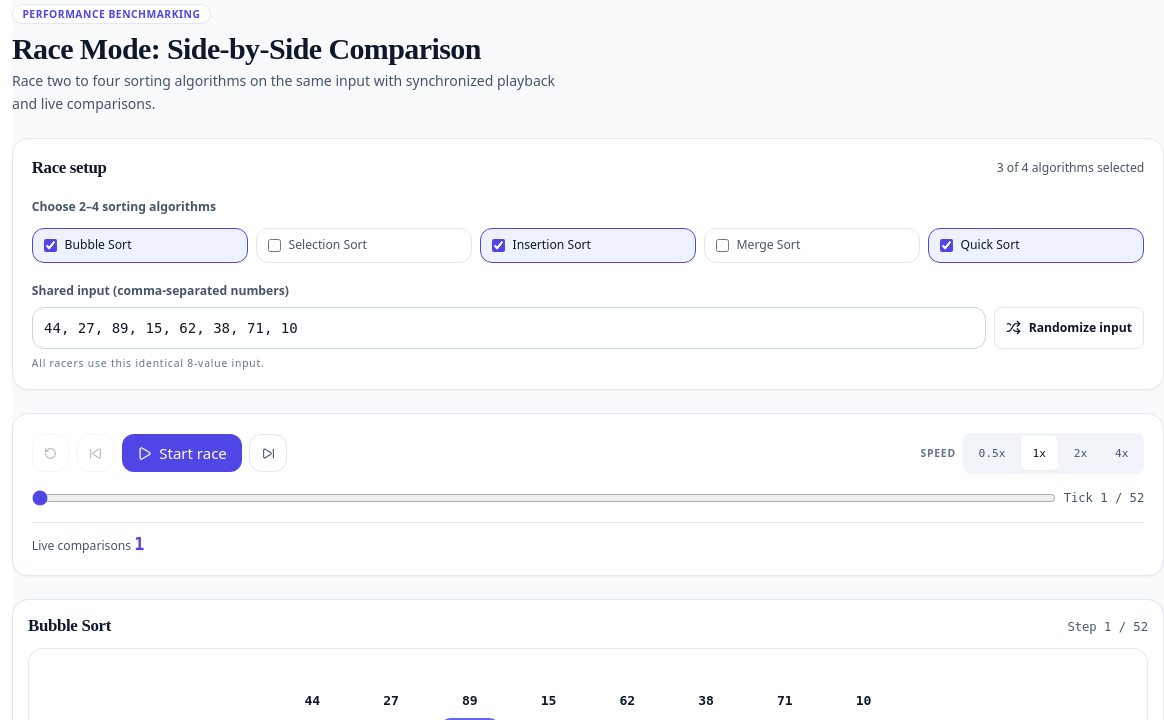
Test: RaceModePage › enforces two-to-four racers and blocks playback for invalid shared input
The width and height of the screenshot is (1164, 720).
Click the checkbox labelled "Insertion Sort".
click(498, 245)  # box [492, 239, 505, 252]
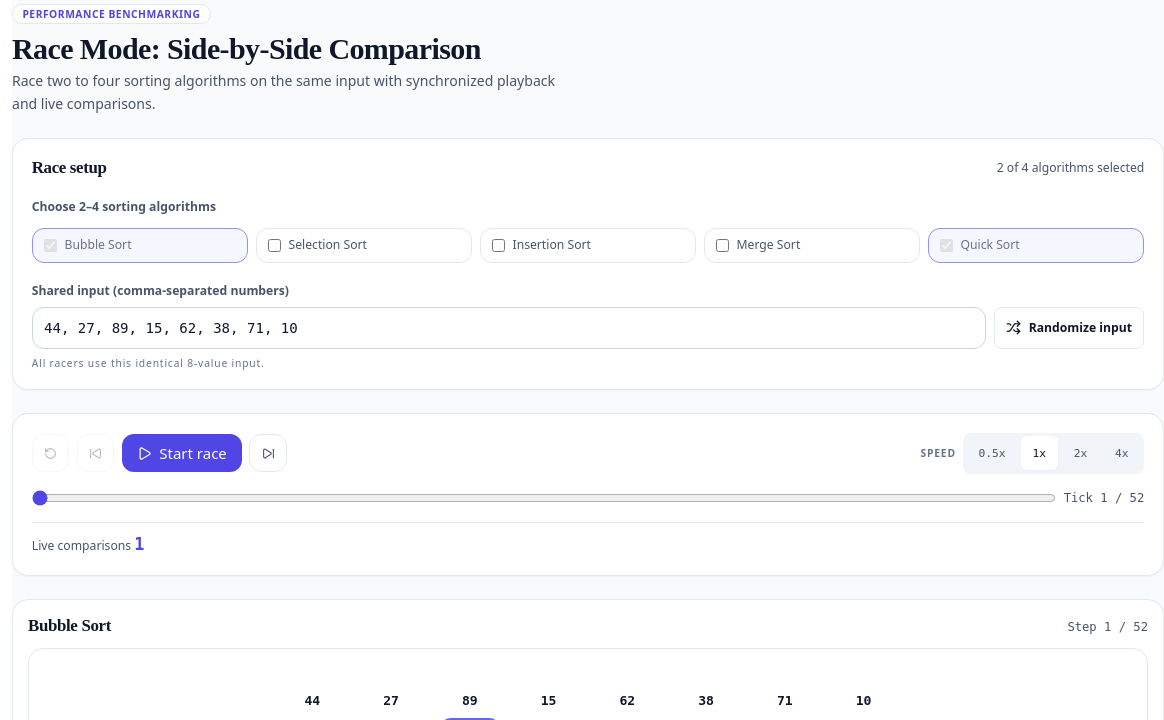
Expected: the checkbox labelled "Bubble Sort" is disabled, [44, 239, 57, 252]
Click the checkbox labelled "Merge Sort".
click(722, 245)  # box [716, 239, 729, 252]
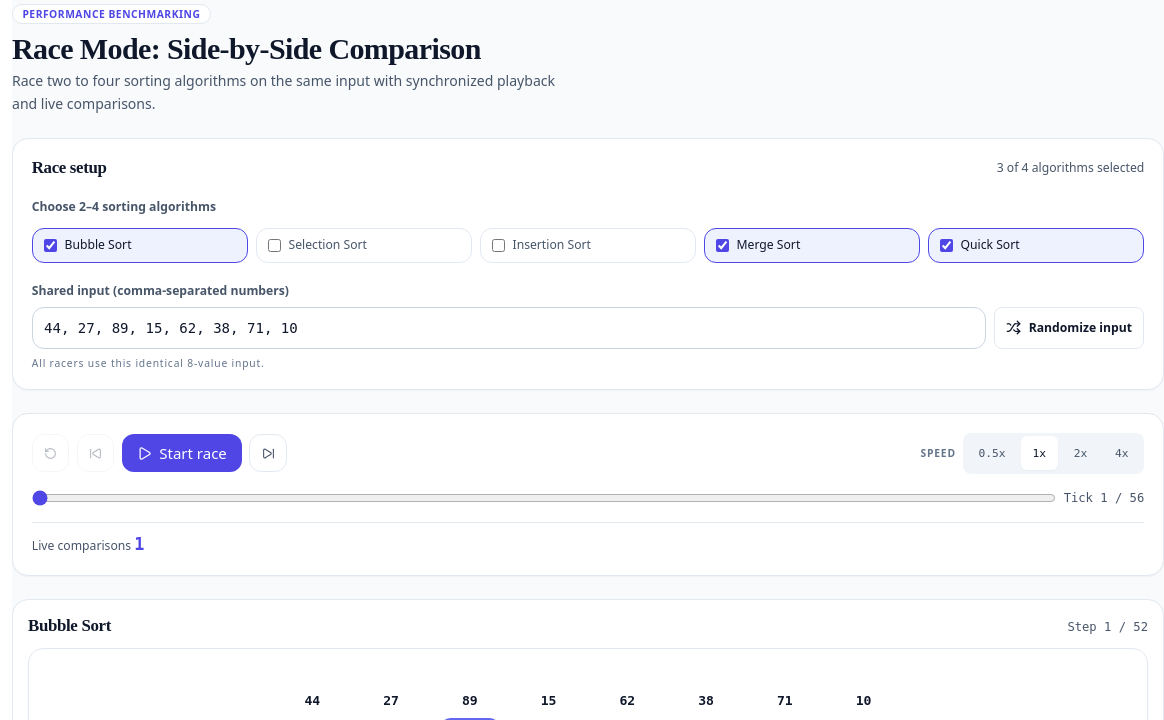
Click the checkbox labelled "Selection Sort".
click(274, 245)  # box [268, 239, 281, 252]
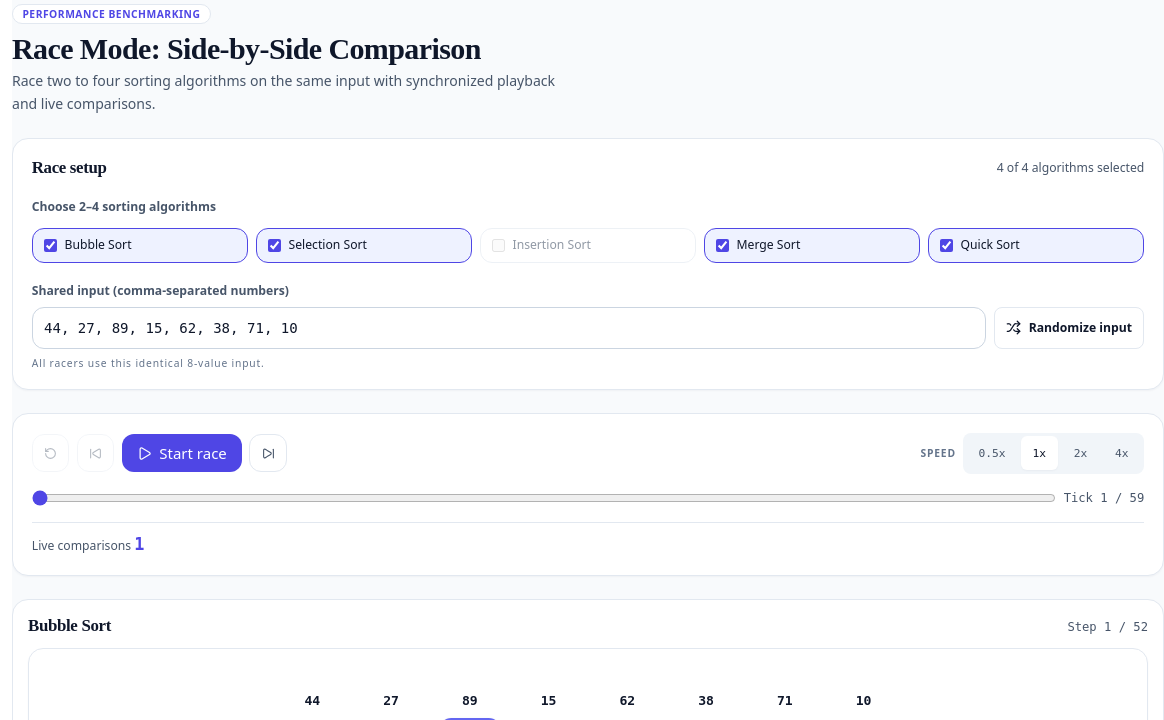
Expected: the text "4 of 4 algorithms selected" is shown, [997, 159, 1144, 177]
Expected: the checkbox labelled "Insertion Sort" is disabled, [492, 239, 505, 252]
Replace the text in the field labelled "Shared input (comma-separated numbers)" with "3, nope" at {"x": 509, "y": 328}, box [32, 307, 986, 349]
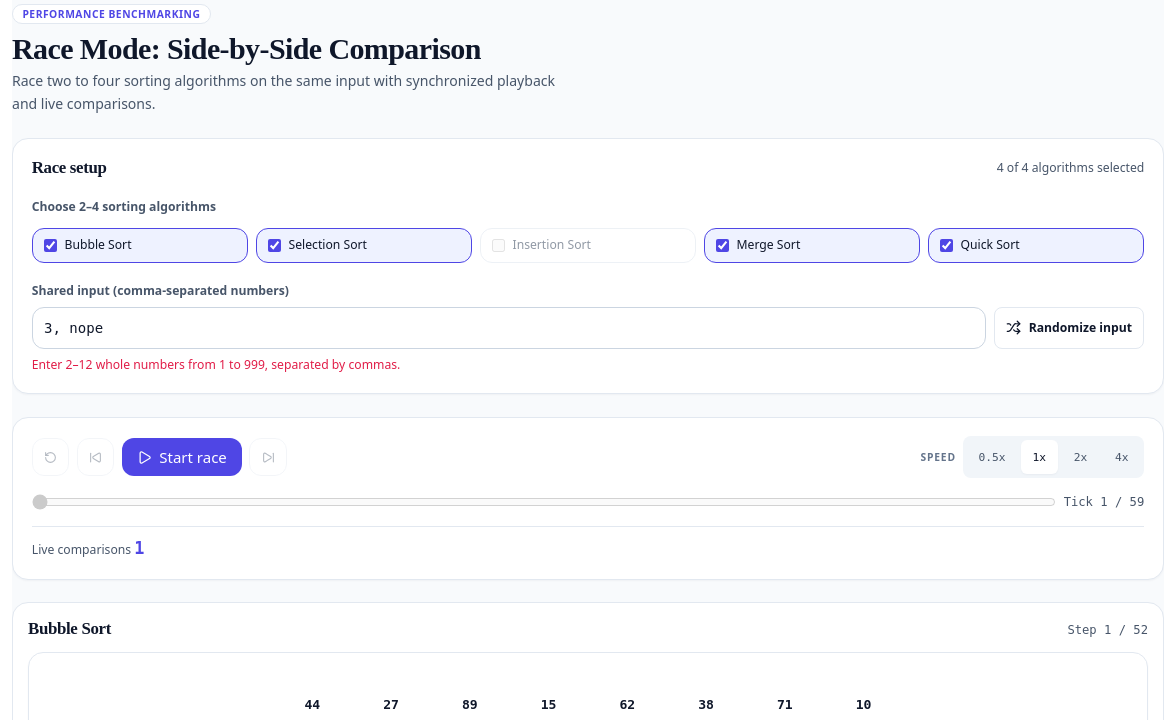
Expected: the message shows "whole numbers", [32, 356, 400, 373]
Expected: the button "Start race" is disabled, [122, 438, 242, 476]
